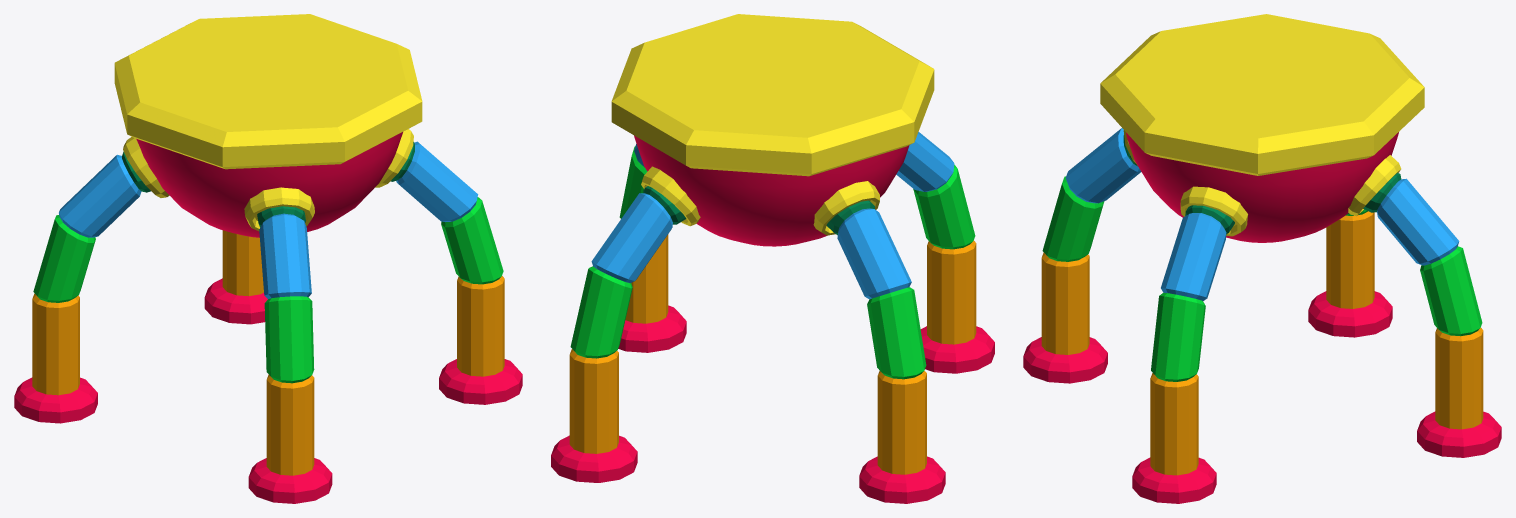
Rendered from RobotBottom.fbx.
3 renders of one model, left to right at view 1: azimuth 30°, elevation 25°; view 2: azimuth 150°, elevation 25°; view 3: azimuth 270°, elevation 25°, orthographic. The views are drawn at different scales.
Parts seen in each view (by area): view 1: Circle.009; view 2: Circle.009; view 3: Circle.009.
Boxes of the visible parts, <box> form: Circle.009: <box>14,14,522,503</box>; Circle.009: <box>551,14,994,503</box>; Circle.009: <box>1023,14,1501,503</box>.
Bounding box in the file's own units: 2352 × 1773 × 2352.
